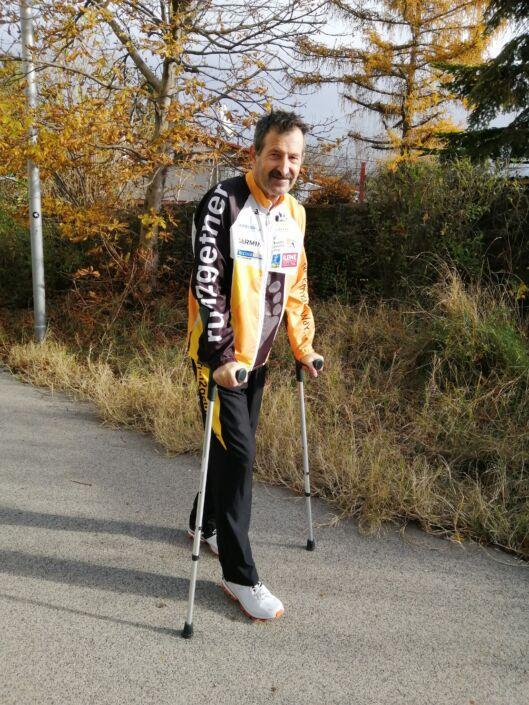crutches: (158, 101, 338, 661)
